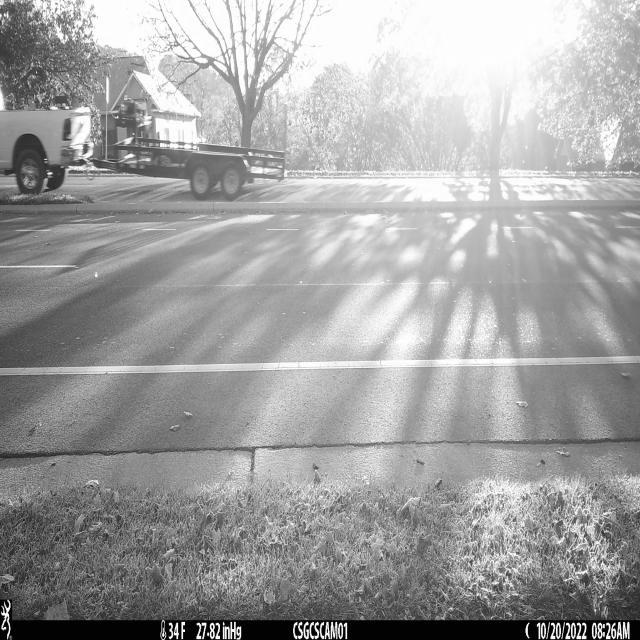Trailer: (94, 137, 289, 202)
